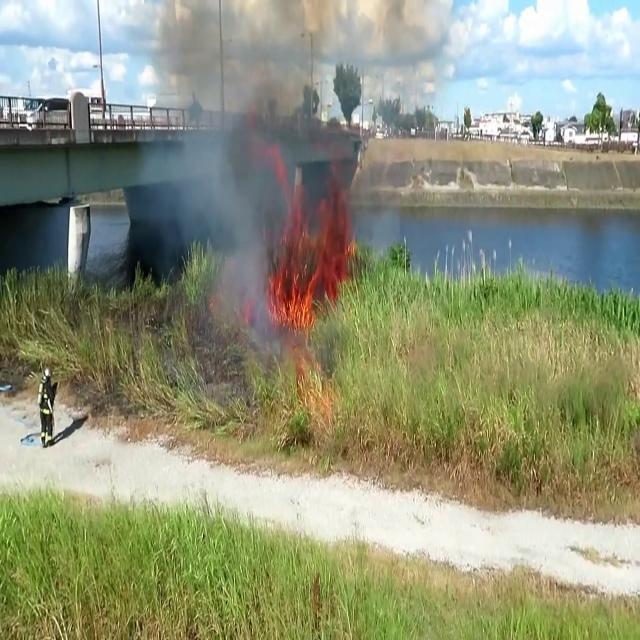Fire: (280, 162, 350, 334)
Smoke: (167, 0, 357, 340)
